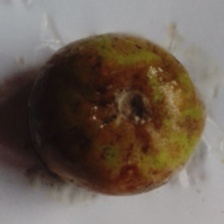guava: (42, 45, 209, 220)
